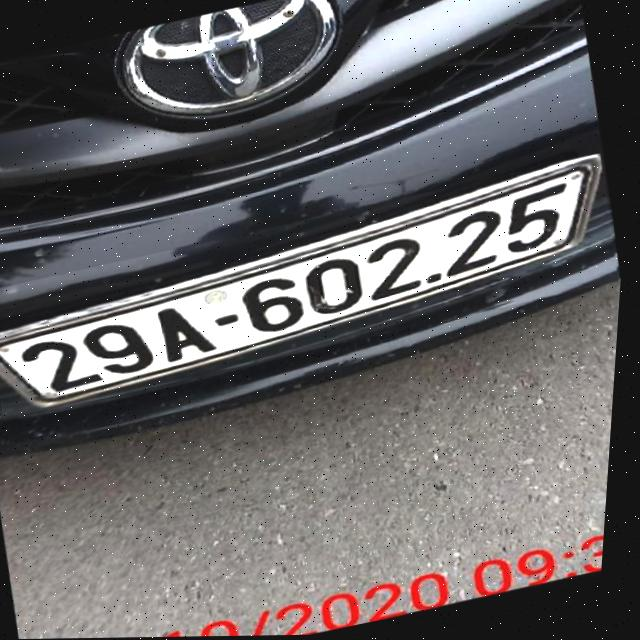car: (0, 0, 640, 462)
plate: (0, 152, 629, 429)
